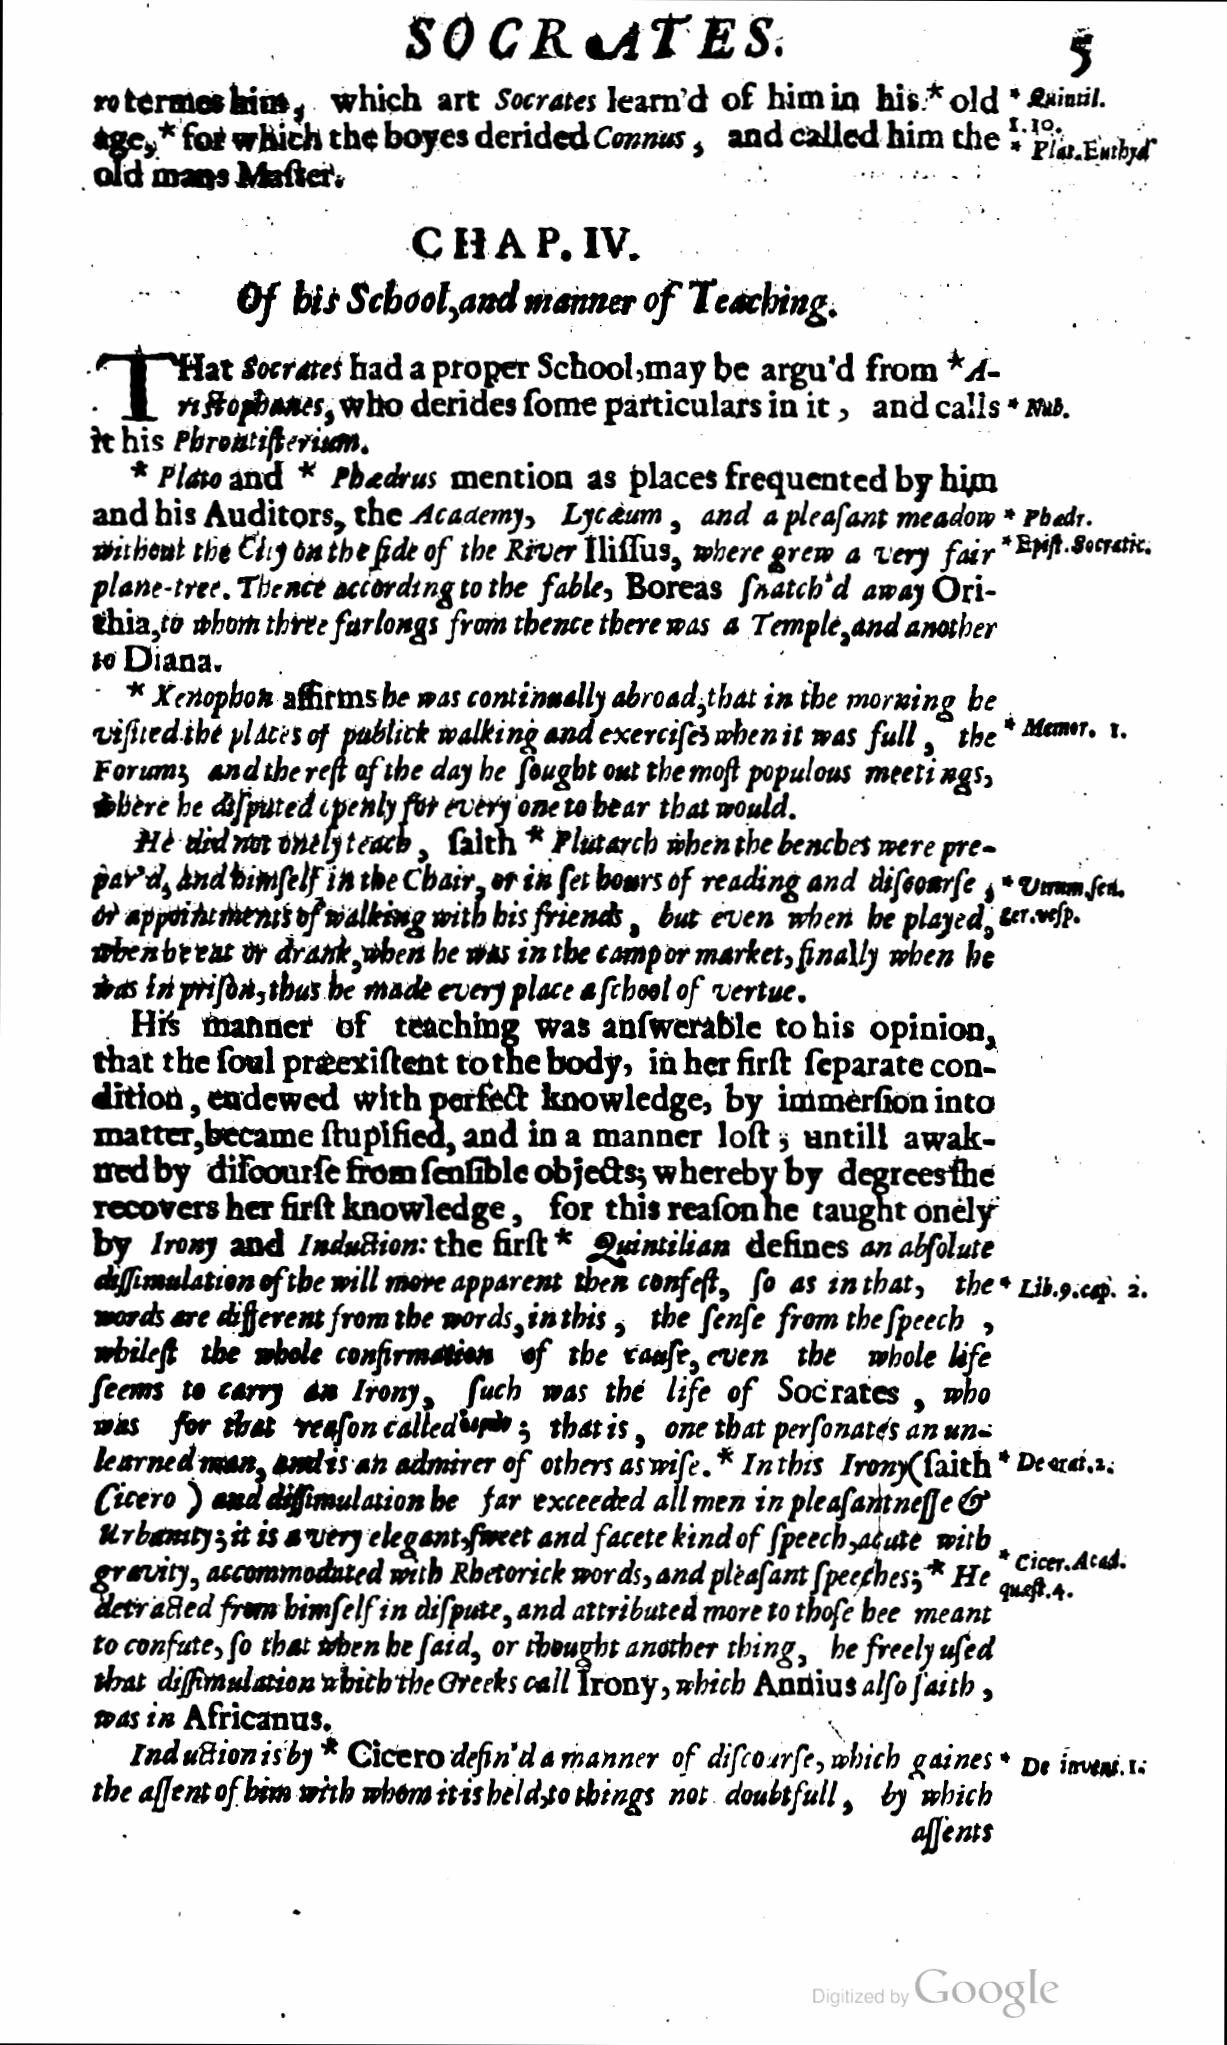bottom_p: (92, 82, 1002, 190)
catchword: (907, 1817, 1002, 1858)
full_p: (88, 1012, 998, 1737), (80, 465, 1001, 675), (88, 825, 995, 1012), (82, 678, 998, 825), (82, 345, 1005, 460), (215, 215, 855, 327)
header: (393, 0, 811, 74)
initial_l: (85, 342, 180, 429)
page_num: (1047, 18, 1103, 88)
print_marg: (1012, 82, 1157, 169), (1002, 502, 1157, 568), (1001, 1547, 1138, 1607), (998, 871, 1131, 932), (1001, 1265, 1153, 1315), (1001, 700, 1135, 755), (995, 1746, 1157, 1789), (995, 1448, 1120, 1486), (1008, 383, 1075, 425)
top_p: (91, 1740, 1001, 1817)
